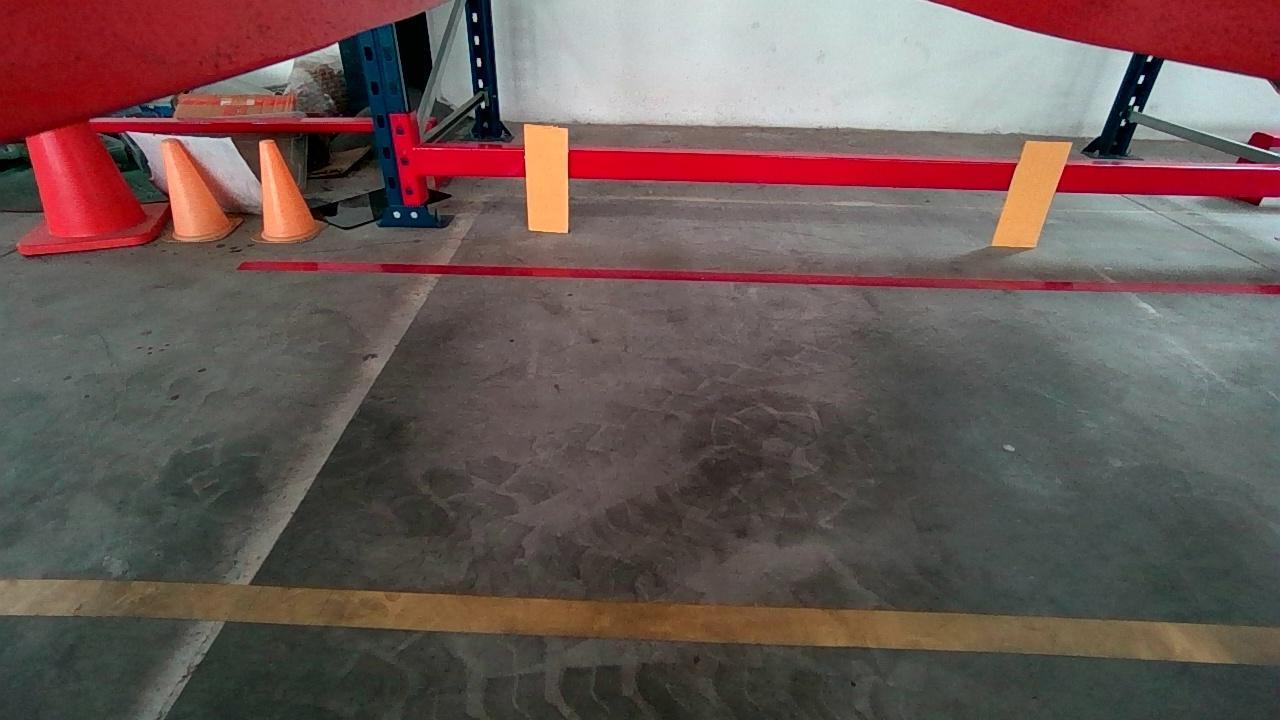h_rack: (415, 146, 1280, 191)
orange_strip: (995, 141, 1069, 245), (527, 127, 568, 232)
red_line: (236, 259, 1280, 296)
yellow_line: (0, 580, 1280, 664)
